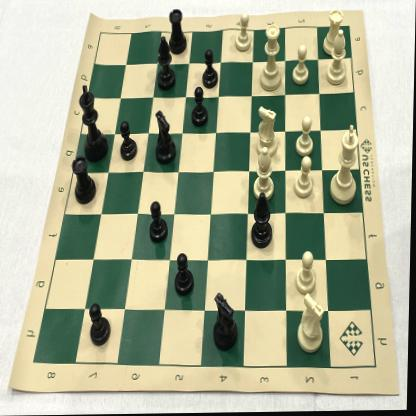black-bishop: (251, 192, 275, 252), (155, 34, 177, 96)
black-king: (76, 80, 112, 162)
black-knight: (212, 289, 242, 354), (154, 108, 178, 167)
black-pawn: (89, 300, 115, 348), (147, 198, 170, 246), (174, 252, 196, 299), (118, 118, 139, 164), (202, 48, 221, 90), (191, 86, 209, 130)
black-rook: (70, 154, 100, 208), (167, 6, 189, 57)
white-bishop: (324, 30, 352, 88), (254, 146, 276, 201)
white-king: (328, 124, 362, 208)
white-knight: (298, 291, 328, 356), (254, 104, 280, 160)
white-pawn: (292, 156, 318, 201), (295, 250, 319, 297), (290, 41, 312, 89), (294, 114, 316, 160), (233, 10, 254, 54)
white-queen: (257, 21, 285, 94)
white-rook: (320, 8, 346, 60)
